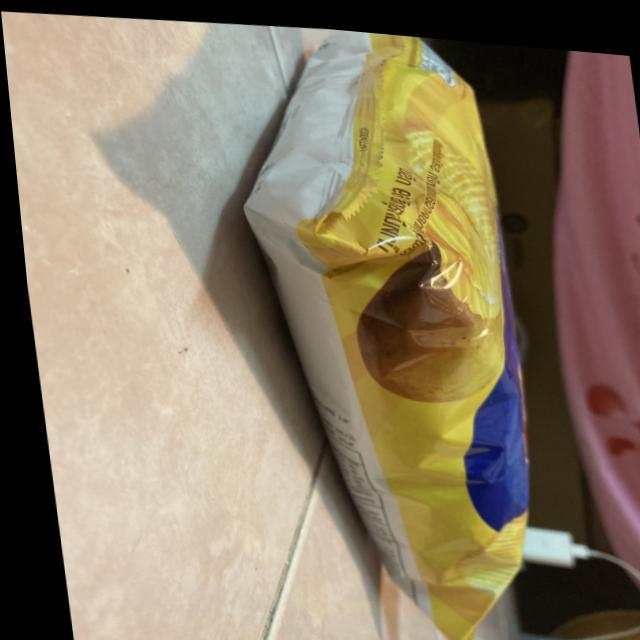LayYellow: (218, 15, 577, 640)
